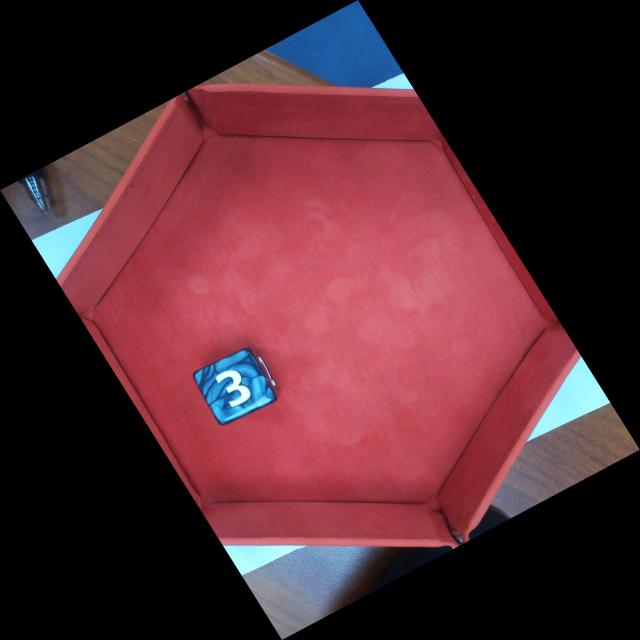dice: (188, 345, 281, 430)
